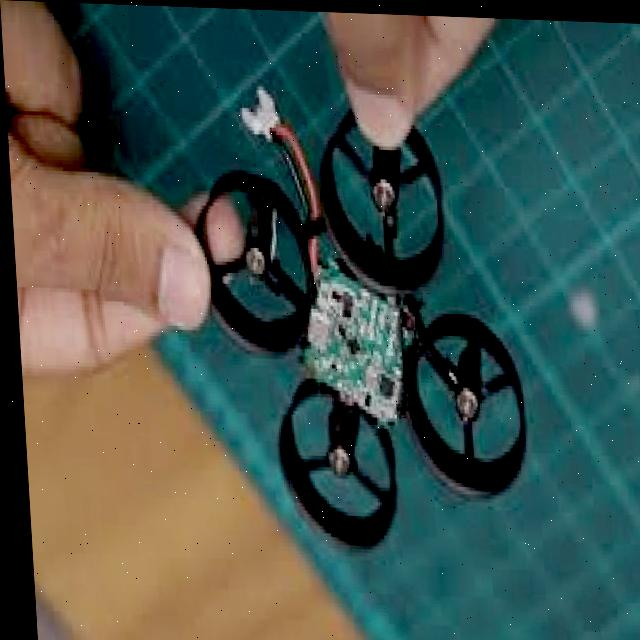drone: (188, 94, 536, 564)
